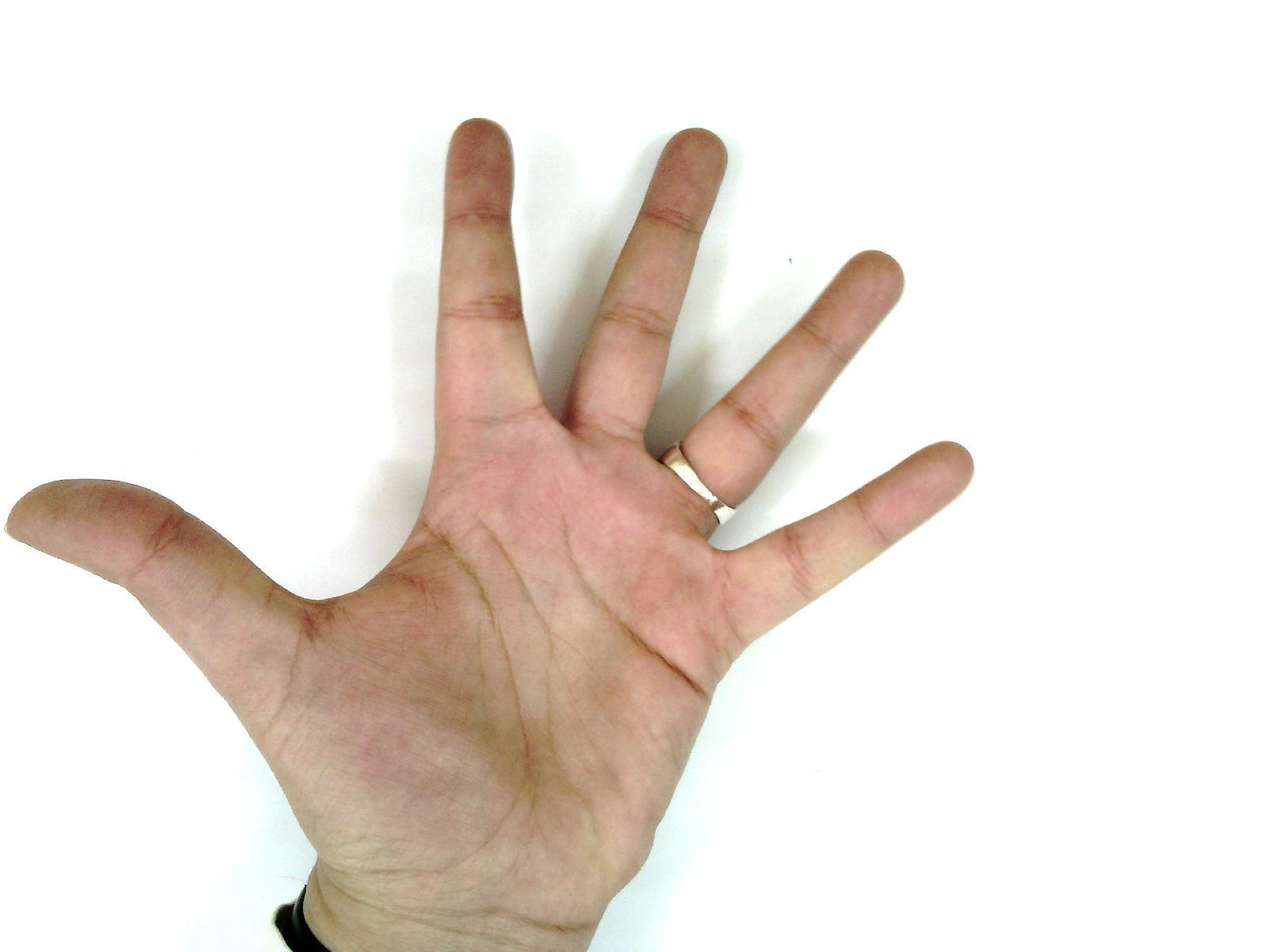open_palm: (7, 116, 976, 931)
